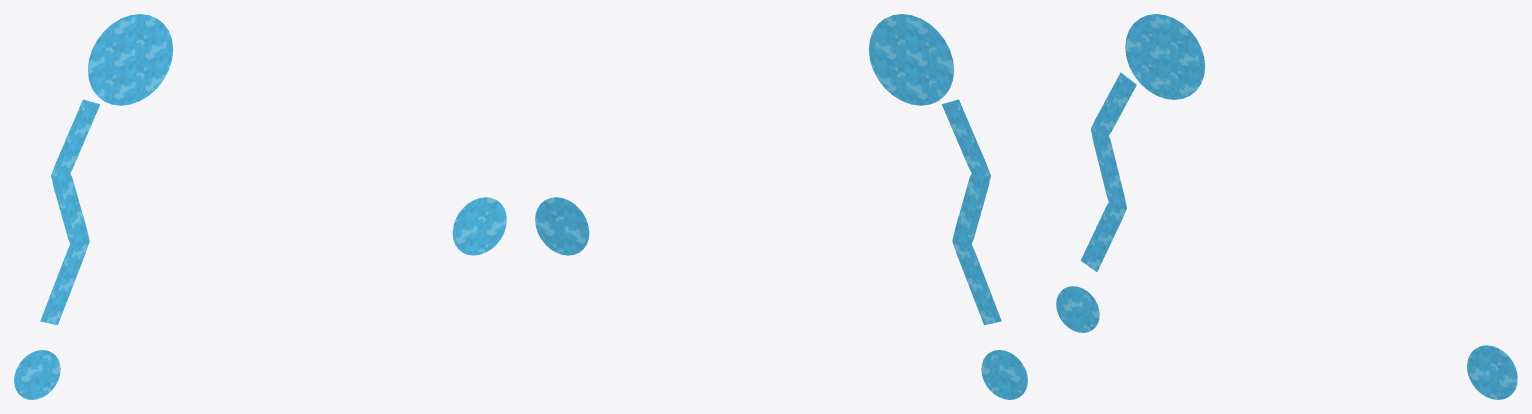
The model's file is water.glb.
The picture shows the model from 3 angles, left to right: view 1: azimuth 30°, elevation 25°; view 2: azimuth 150°, elevation 25°; view 3: azimuth 330°, elevation 25°; orthographic projection. The views are drawn at different scales.
Parts seen in each view (by area): view 1: world; view 2: world; view 3: world.
Boxes of the visible parts, box(x1,y1,x2,y2) form: world: box(14, 14, 506, 399); world: box(535, 14, 1027, 399); world: box(1056, 14, 1517, 399).
Size of the model in its own units: 127 by 89 by 0.
1 material, 1 textured.
